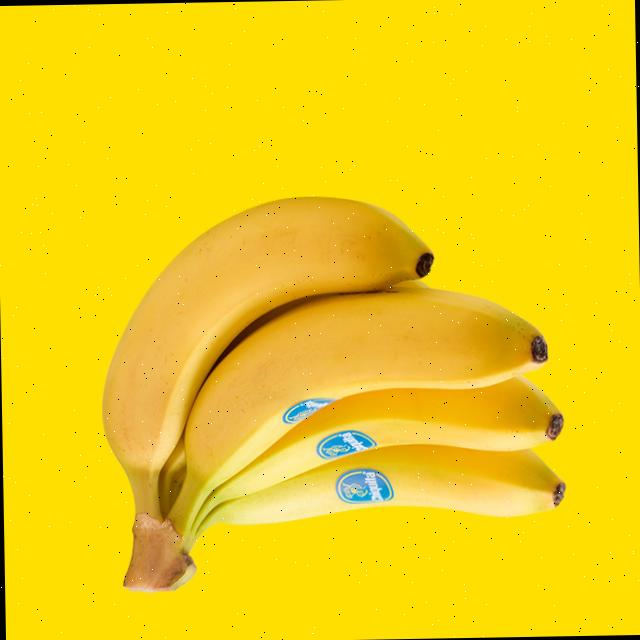Pisang: (98, 195, 441, 592), (156, 283, 554, 548)
